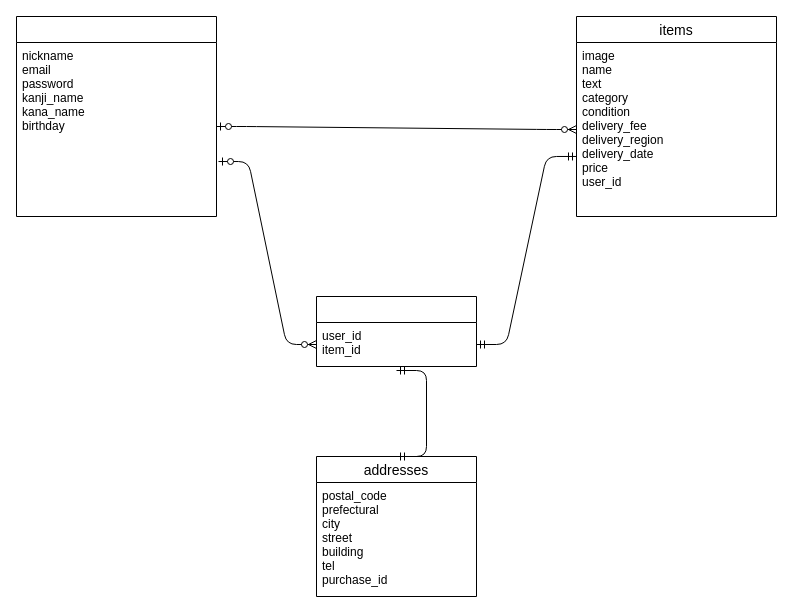
Some shapes in this 793 by 613 pixel diagram are drawn without their labels. Here are the shapes that lost their labels. From the top down, the box of each, then its label:
(16, 16, 216, 216): users
(316, 296, 476, 366): purchases
